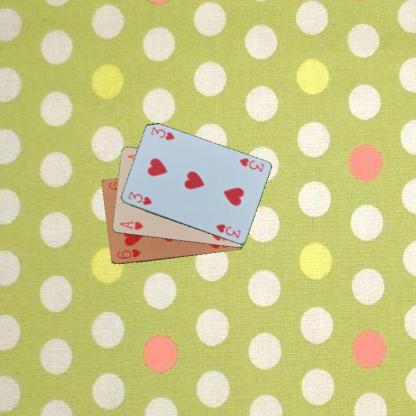3h: (236, 156, 266, 173), (125, 188, 153, 206)
6h: (115, 247, 142, 260)
Ah: (117, 219, 144, 231)
